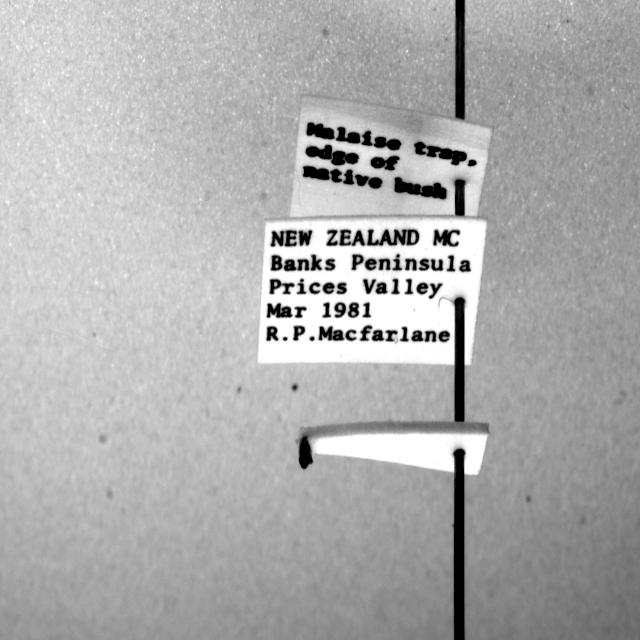typed_label: (258, 216, 486, 364), (290, 96, 492, 218)
